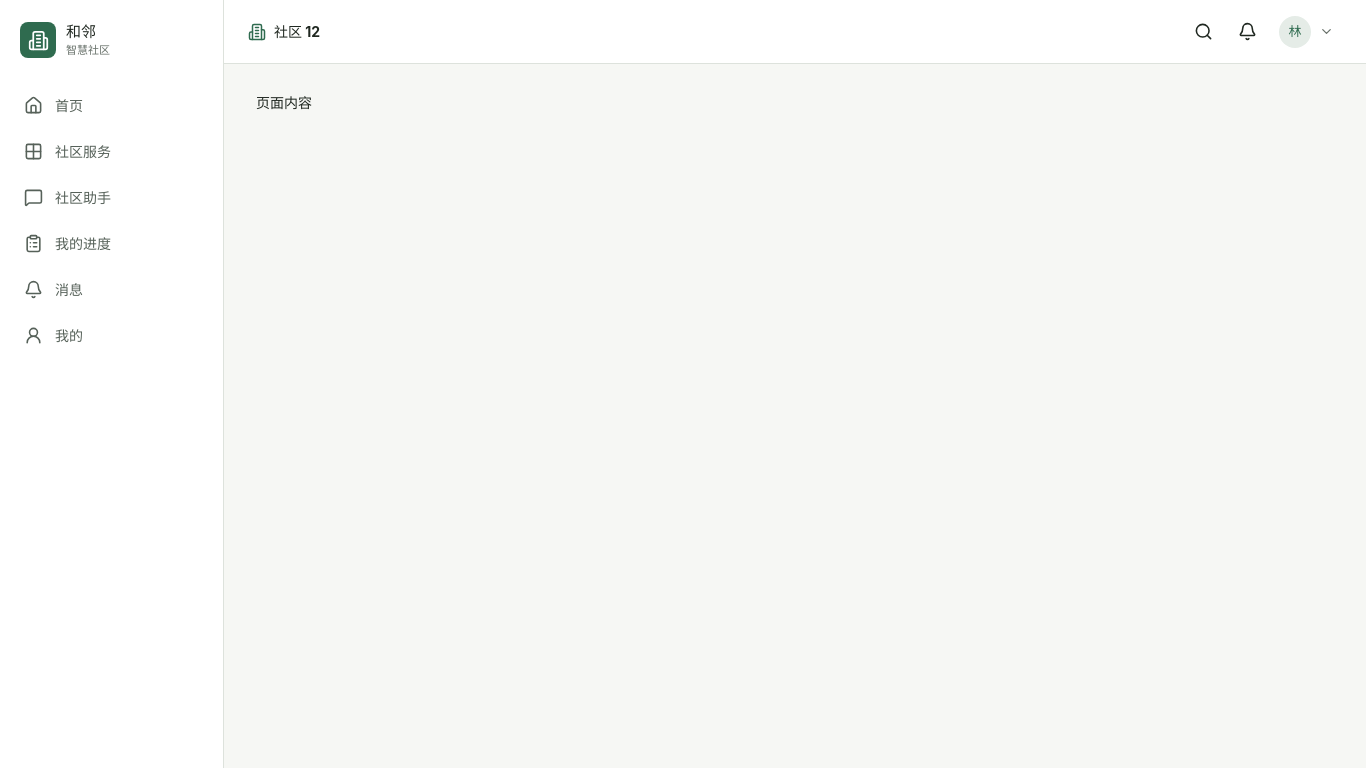
Test case: app shell accessibility › opens a named search dialog from the icon action
Click the button named "搜索": (1203, 32) [1183,12,1223,52]
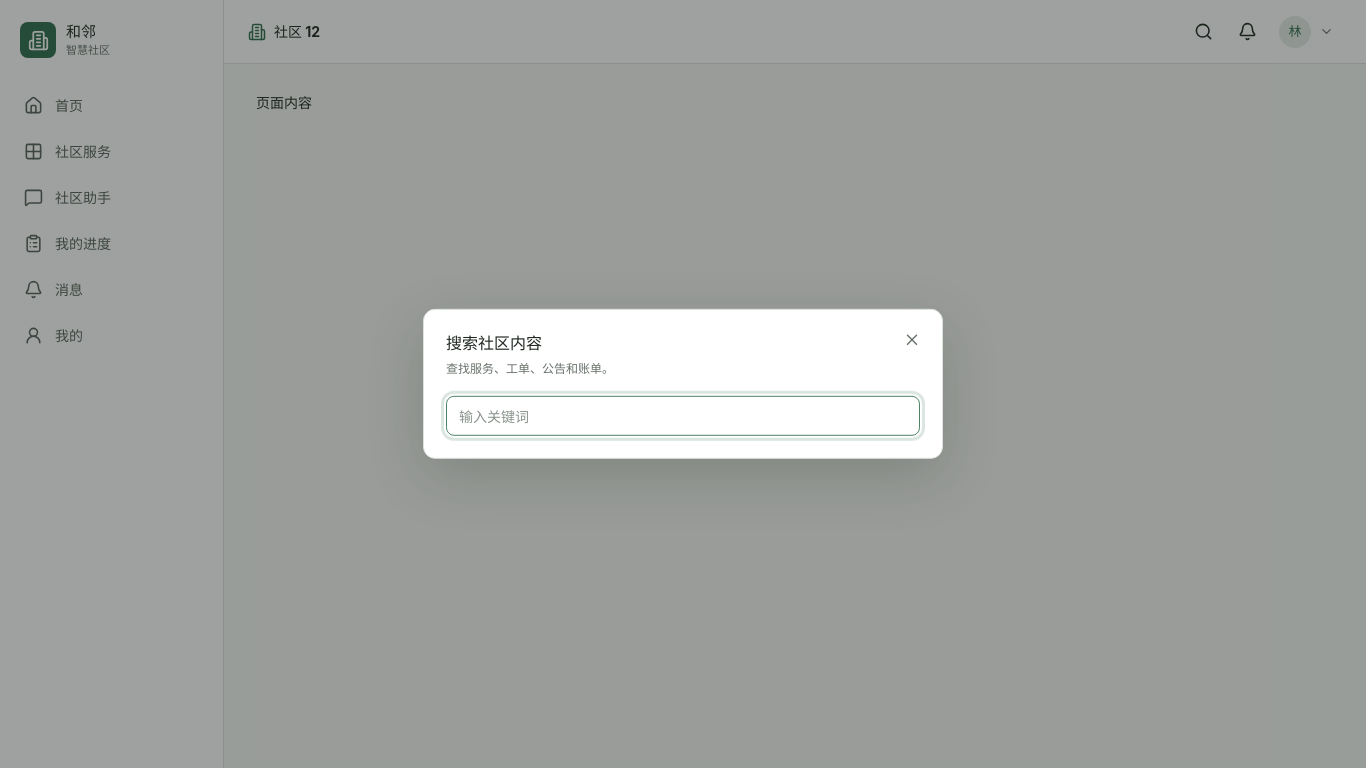
Now the dialog "搜索社区内容" is shown, box [423,309,943,459]
